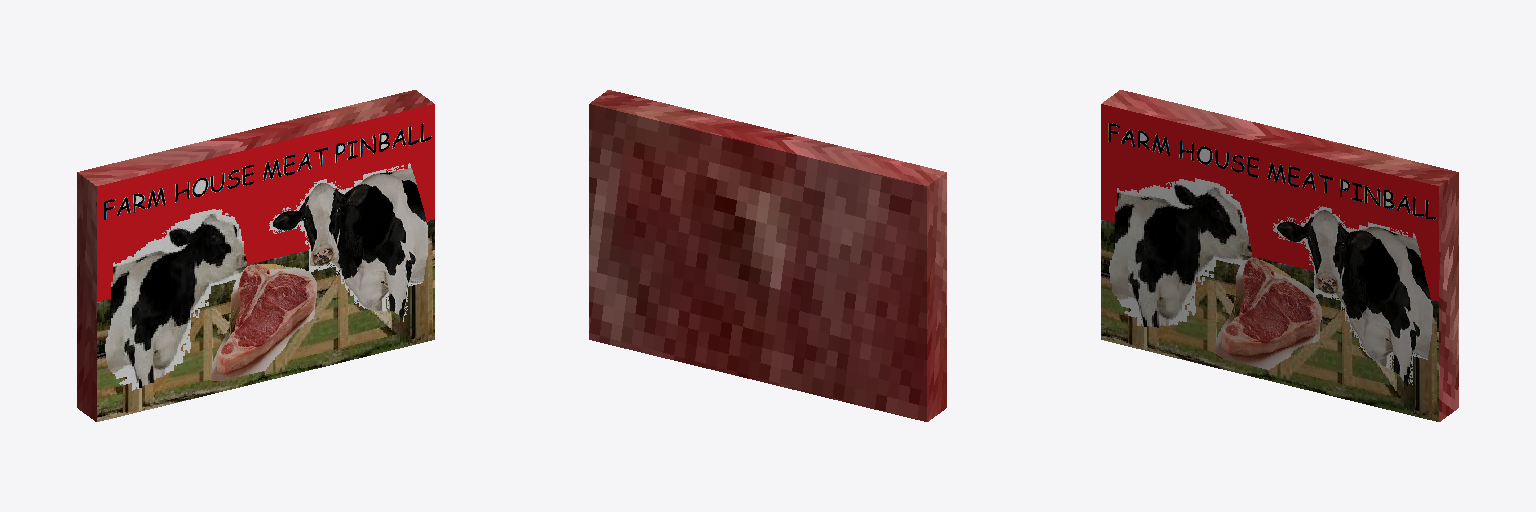
3 renders of one model, left to right at view 1: azimuth 30°, elevation 25°; view 2: azimuth 150°, elevation 25°; view 3: azimuth 330°, elevation 25°, orthographic.
Parts seen in each view (by area): view 1: Plane_Plane.002; view 2: Plane_Plane.002; view 3: Plane_Plane.002.
Boxes of the visible parts, x1,y1,x2,y2 form: Plane_Plane.002: [77, 90, 434, 421]; Plane_Plane.002: [589, 90, 946, 421]; Plane_Plane.002: [1101, 90, 1458, 421].
Bounding box in the file's own units: 12 × 8 × 1.2.
1 materials, 1 textured.